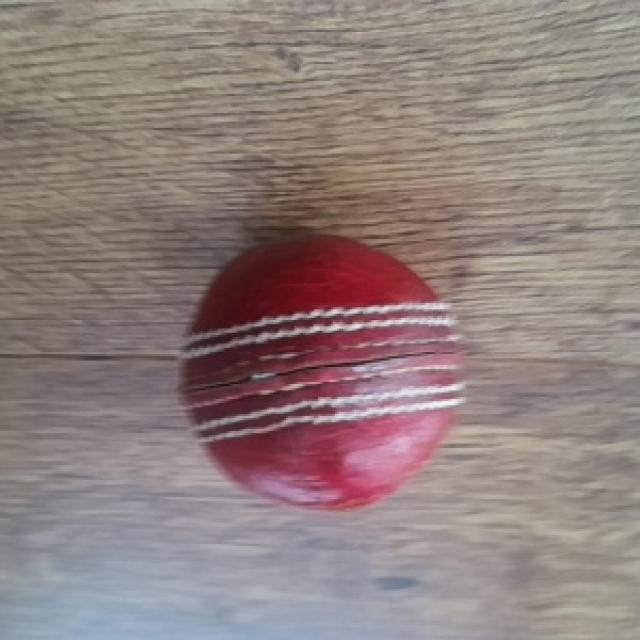ball: (180, 230, 466, 516)
